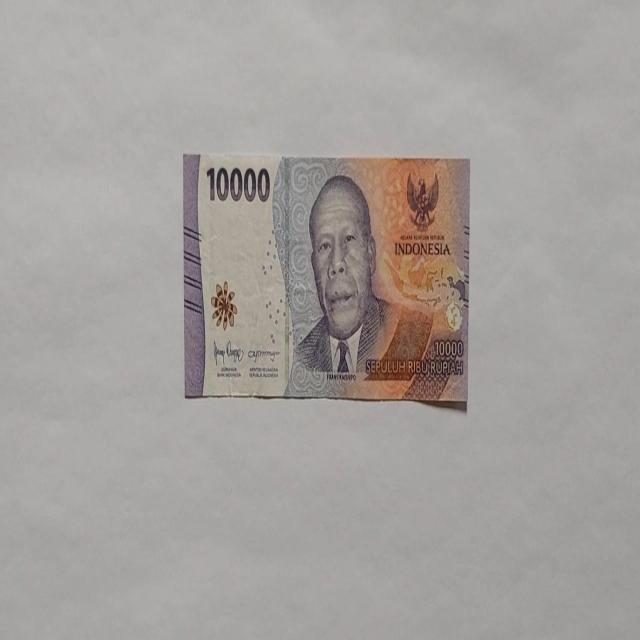Kertas: (182, 150, 470, 407), (205, 162, 271, 205)
